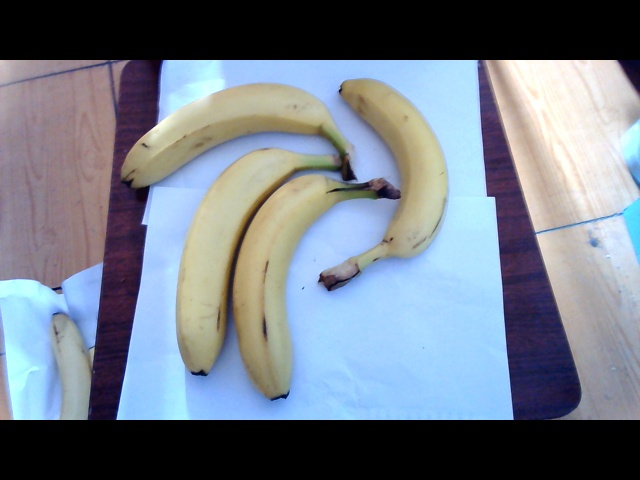banana: (177, 148, 317, 400), (347, 63, 468, 280), (115, 79, 355, 171)
